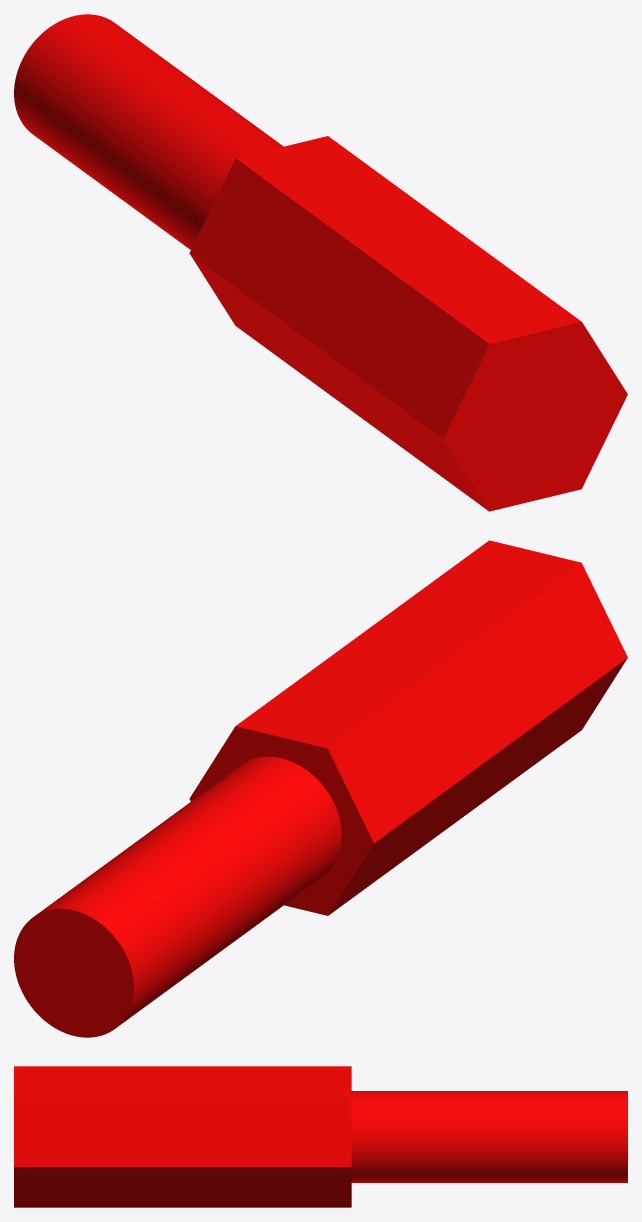
3 views of the same model, one above another, from view 1: azimuth 30°, elevation 25°; view 2: azimuth 150°, elevation 25°; view 3: azimuth 270°, elevation 25° (orthographic). The views are drawn at different scales.
Parts seen in each view (by area): view 1: obj4; view 2: obj4; view 3: obj4.
Part boxes in pixels (x1,y1,x2,y2): obj4: [14, 14, 627, 511]; obj4: [14, 540, 627, 1037]; obj4: [14, 1066, 627, 1207].
Bounding box in the file's own units: 23.09 × 20.02 × 100.
